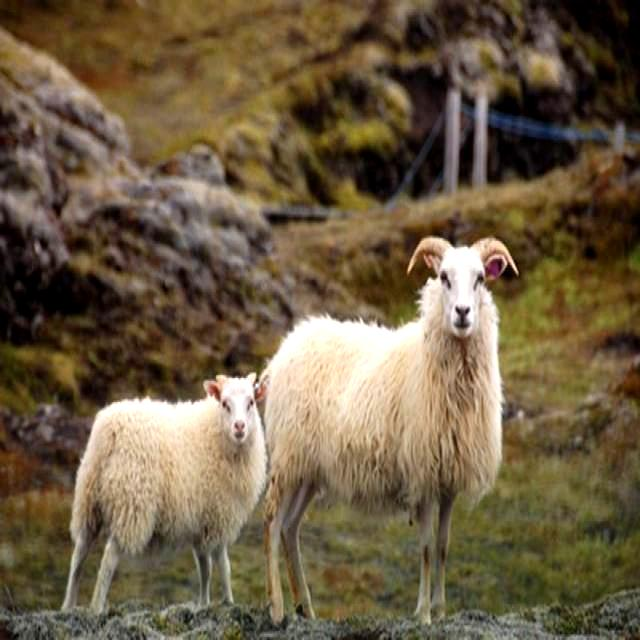sheep: (265, 236, 523, 622), (58, 371, 267, 612)
